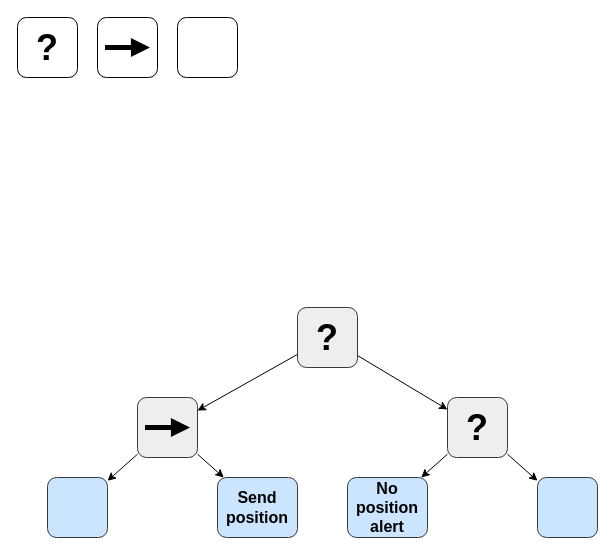
This 615x555 diagram has some shape labels left out. The box of each missing label's shape, as (x1, y1, x2, y2) in pixels:
GNSS fix: (46, 476, 108, 538)
Sleep: (536, 476, 598, 538)
